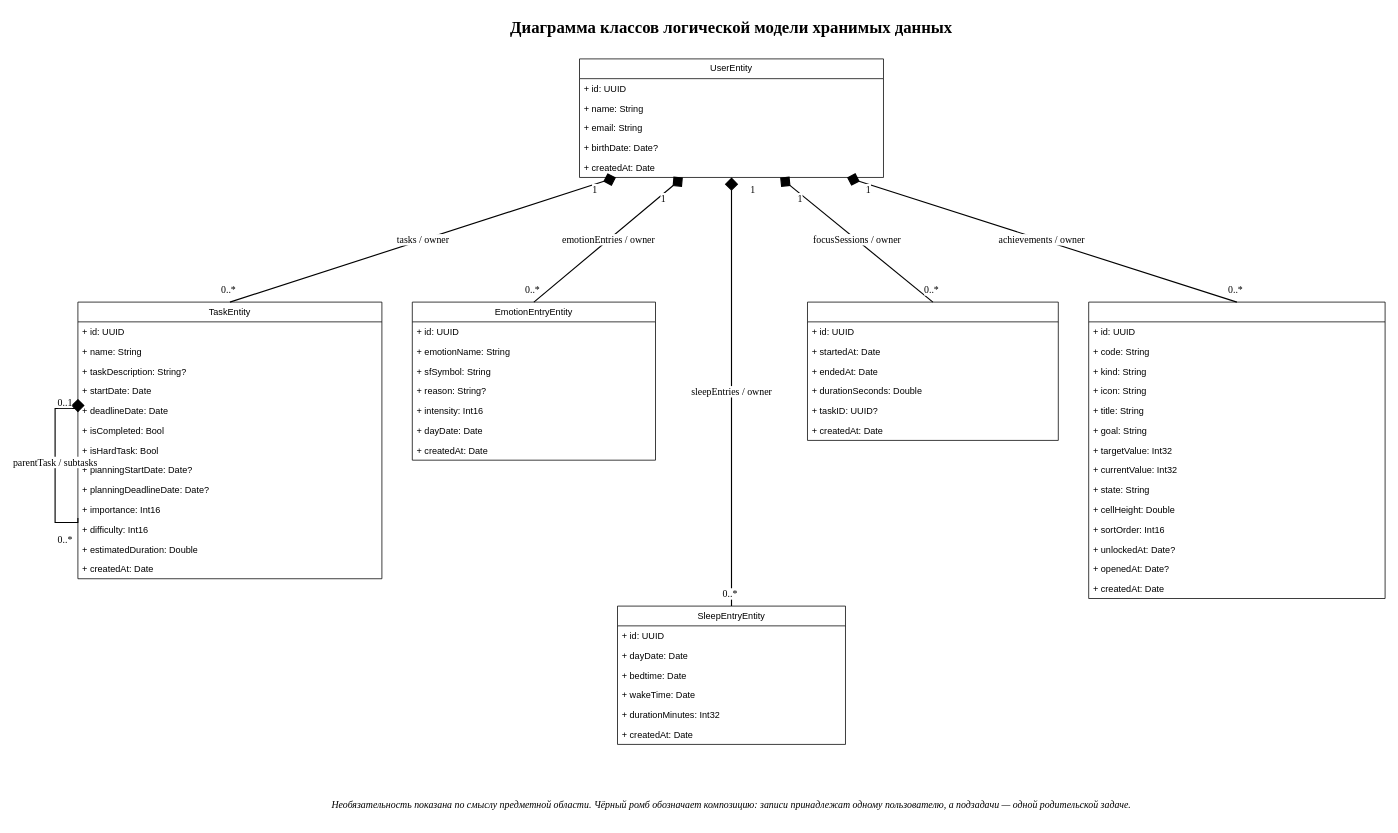
The diagram is 1398 pixels wide and 833 high, and some of its shapes have lost their labels. The shapes that lost their labels are listed below. From the top down, each one's box as (x1, y1, x2, y2) in pixels, then its label:
(807, 301, 1058, 440): FocusSessionEntity
(1088, 301, 1385, 598): AchievementEntity
